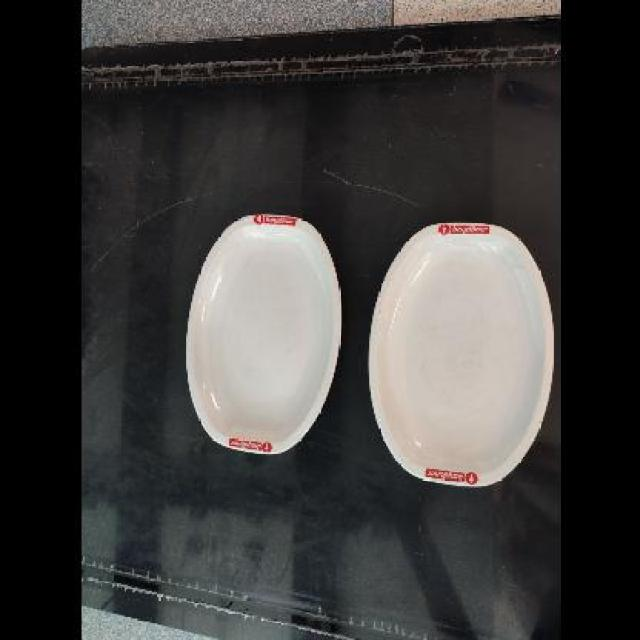plate: (368, 221, 552, 487), (184, 215, 339, 456)
